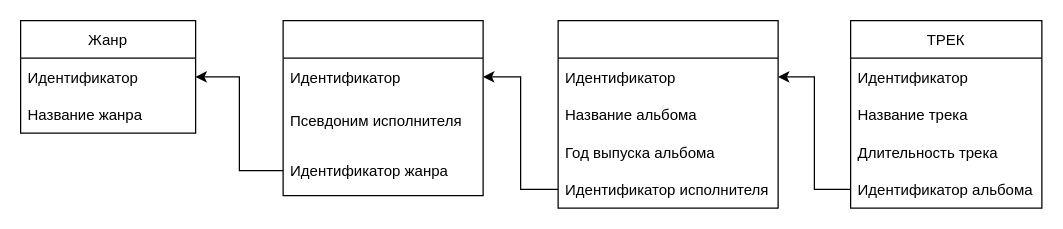
This 1063x229 diagram has some shape labels left out. Each missing label, with the box of its shape:
Альбомы: (557, 19, 778, 208)
Исполнитель: (282, 19, 483, 196)
